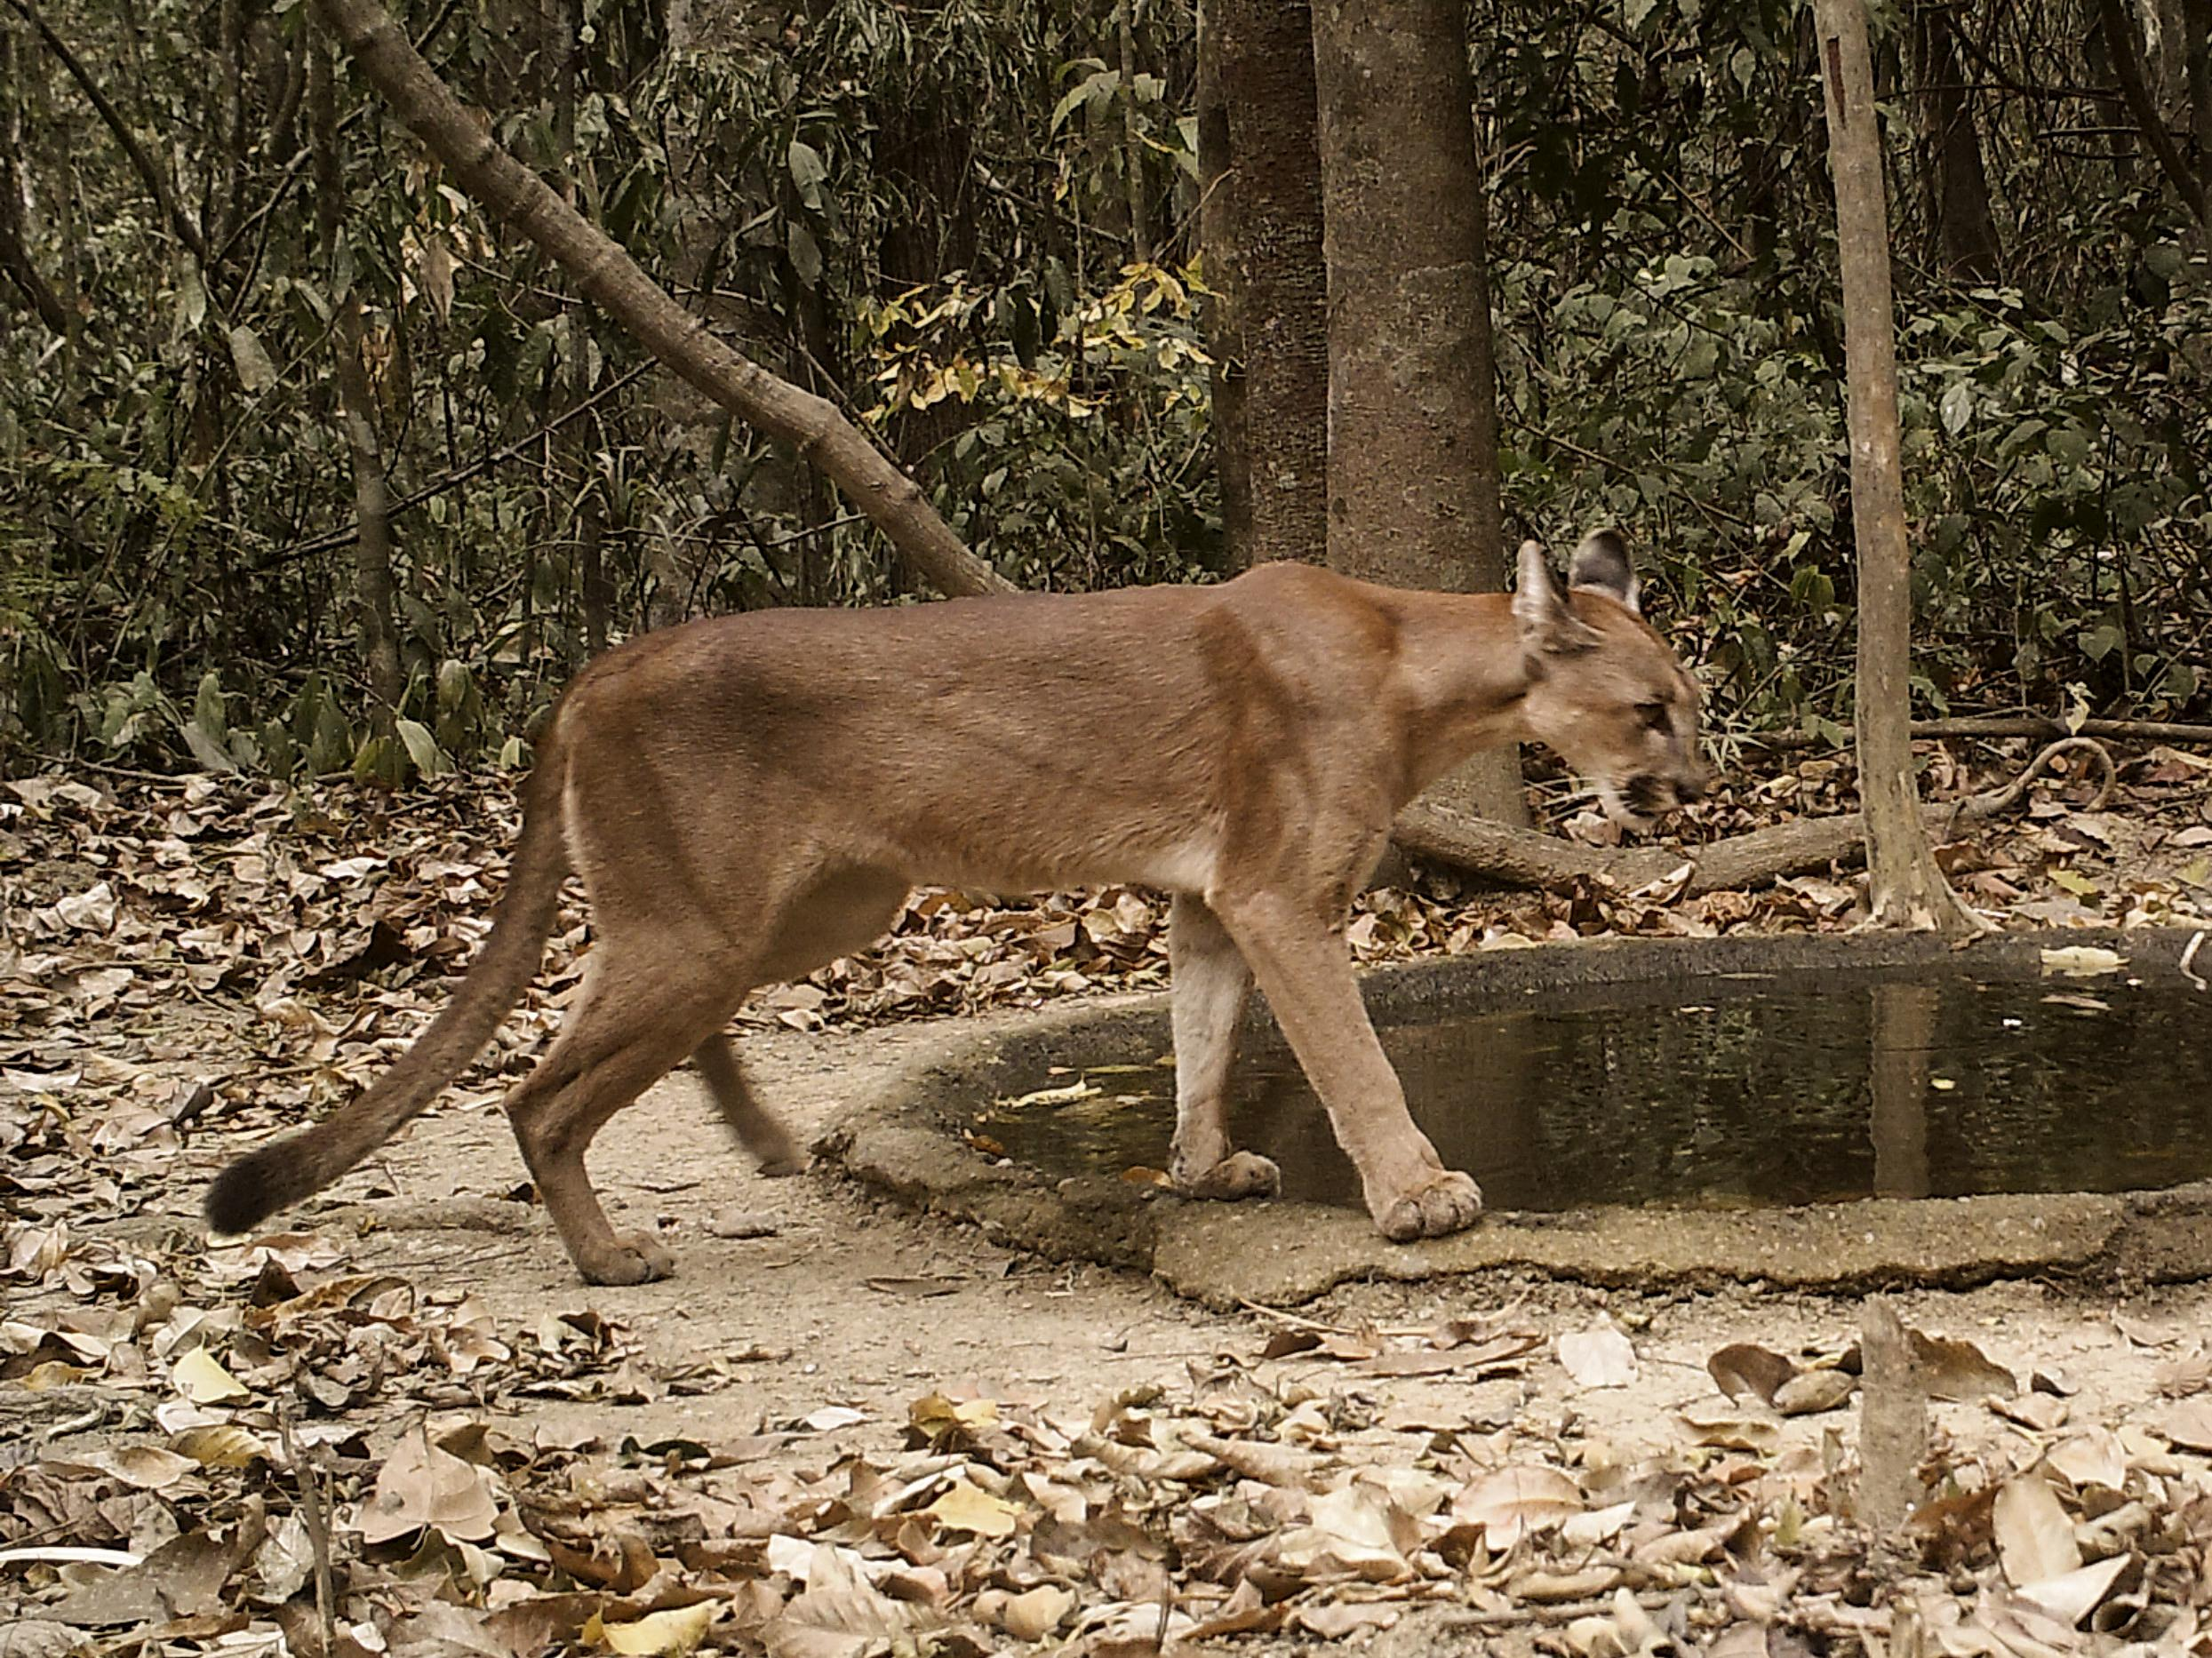OncaParda: (192, 512, 1752, 1299)
